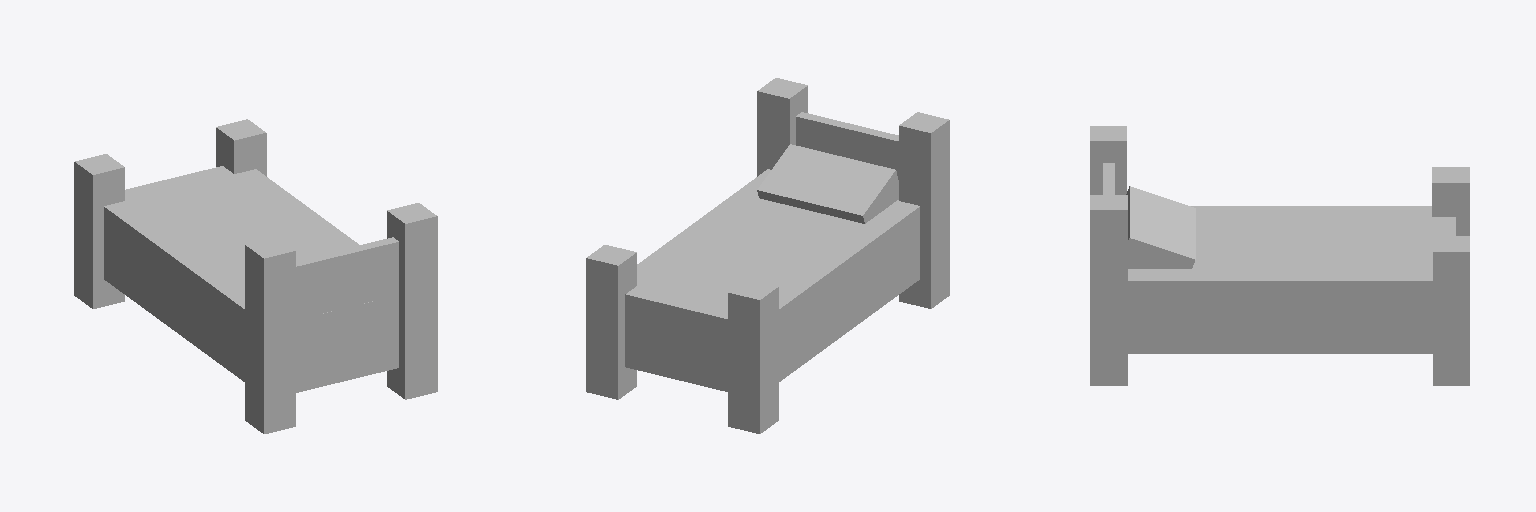
Rendered from bed.obj.
3 views of the same model, side by side, from view 1: azimuth 30°, elevation 25°; view 2: azimuth 150°, elevation 25°; view 3: azimuth 270°, elevation 25° (orthographic).
Parts seen in each view (by area): view 1: Cube_Cube.001; view 2: Cube_Cube.001; view 3: Cube_Cube.001.
Part boxes in pixels (left/top/right/bottom): Cube_Cube.001: left=74, top=119, right=437, bottom=433; Cube_Cube.001: left=586, top=78, right=949, bottom=433; Cube_Cube.001: left=1090, top=126, right=1469, bottom=385.
Bounding box in the file's own units: 1.96 × 1.89 × 3.7.